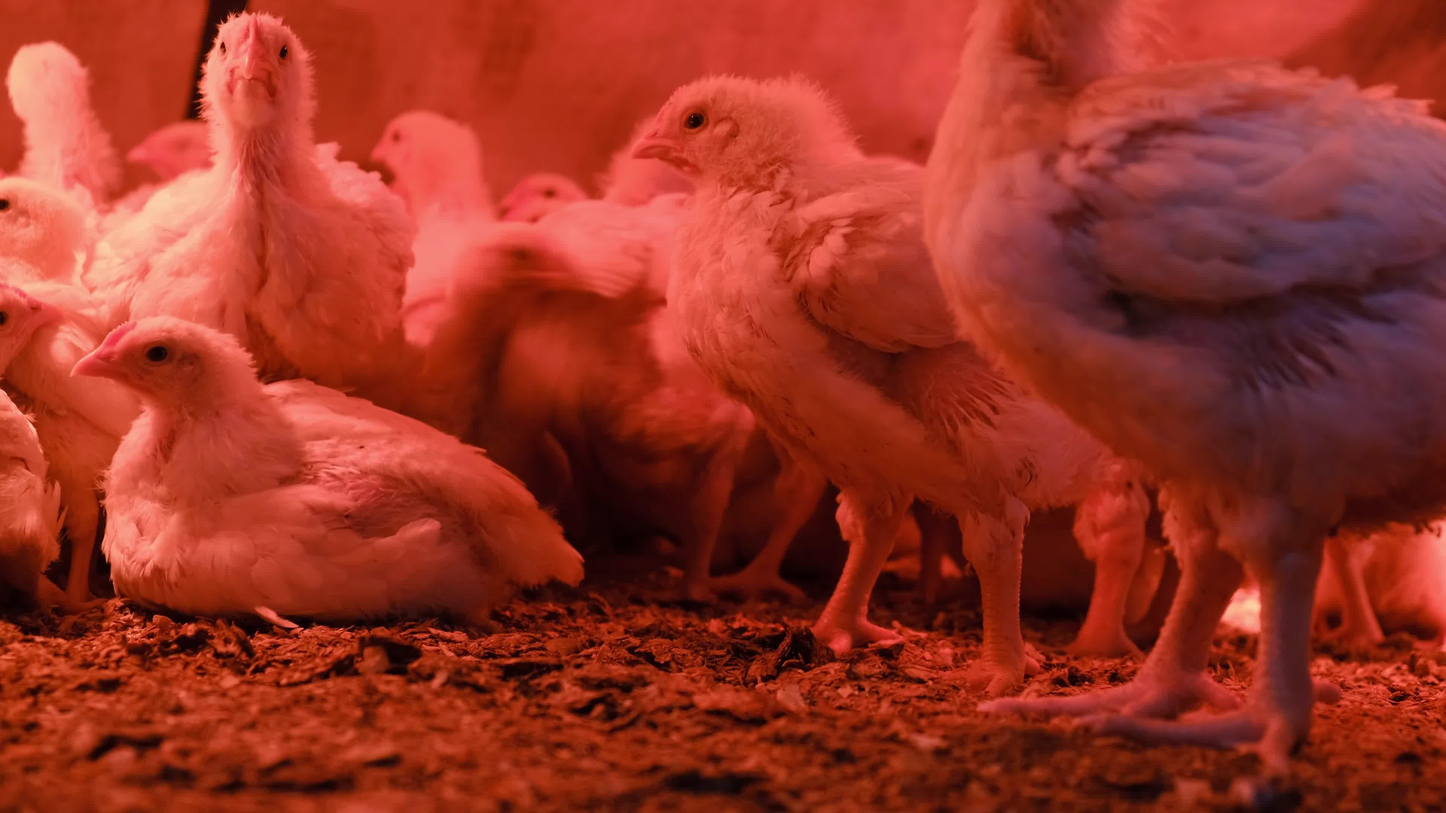AbNormal: (70, 317, 588, 620), (0, 277, 64, 620), (1316, 505, 1444, 652)
Normal: (923, 0, 1446, 777), (633, 72, 1106, 687), (84, 14, 424, 404), (546, 202, 774, 635), (0, 172, 171, 605), (370, 219, 595, 438), (9, 40, 124, 208), (362, 111, 500, 231), (130, 117, 219, 190), (505, 166, 579, 222)
